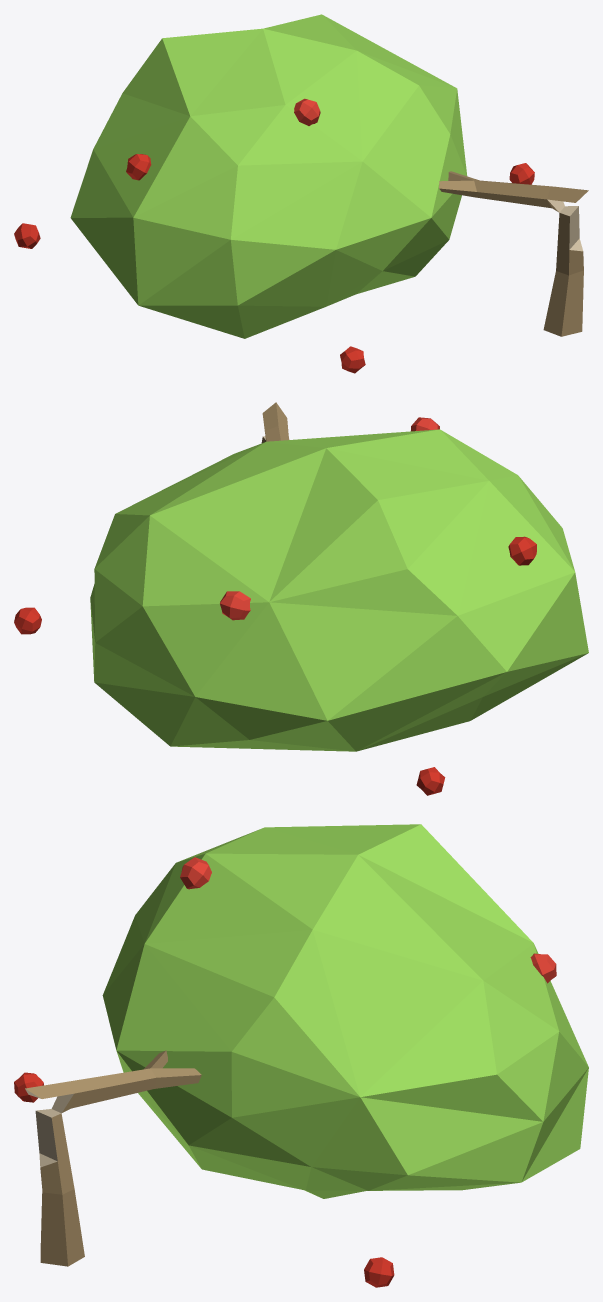
File: Apple_Tree_Apples_crk_m_BT_01.fbx
The picture shows the model from 3 angles, top to bottom: view 1: azimuth 30°, elevation 25°; view 2: azimuth 150°, elevation 25°; view 3: azimuth 270°, elevation 25°; orthographic projection. The views are drawn at different scales.
Parts seen in each view (by area): view 1: Apple_Tree_Apples_crk_m_BT_01; view 2: Apple_Tree_Apples_crk_m_BT_01; view 3: Apple_Tree_Apples_crk_m_BT_01.
Boxes of the visible parts, x1,y1,x2,y2 form: Apple_Tree_Apples_crk_m_BT_01: (14, 14, 588, 373); Apple_Tree_Apples_crk_m_BT_01: (14, 402, 588, 795); Apple_Tree_Apples_crk_m_BT_01: (14, 824, 588, 1287).
Size of the model in its own units: 598 by 310 by 539.
